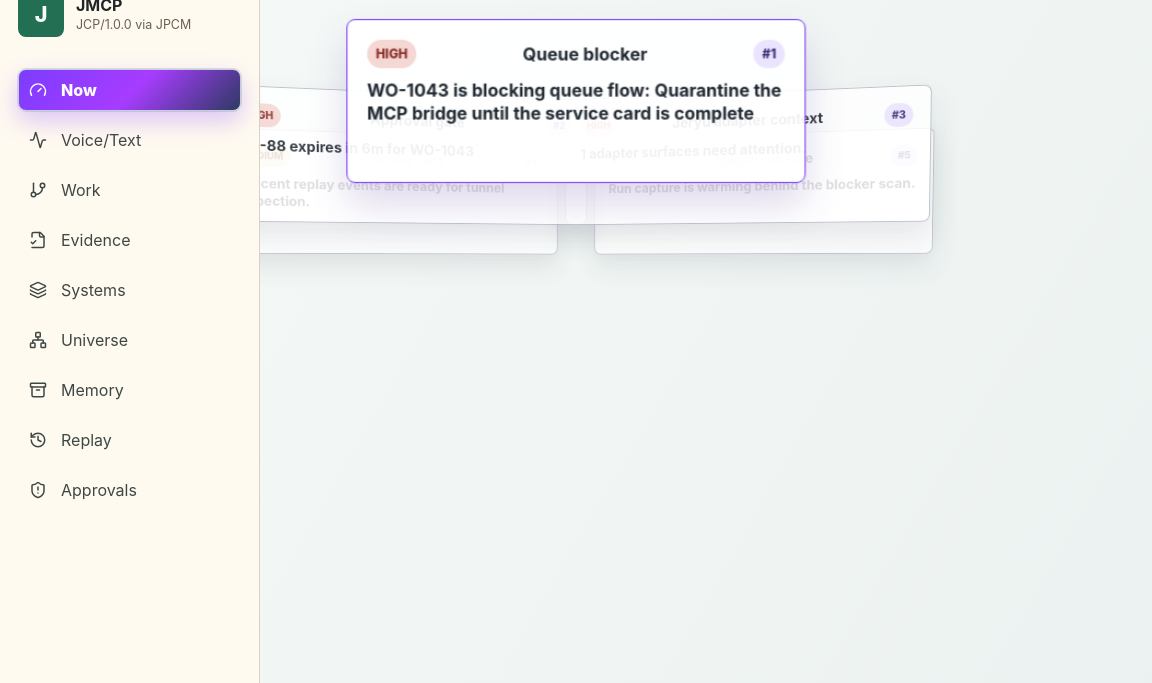
Scenario: JMCP cockpit › opens the voice/text slice with transcript and confirmation details
Click the button "Voice/Text" at (130, 140), box [18, 119, 241, 161]
(page scrolled)
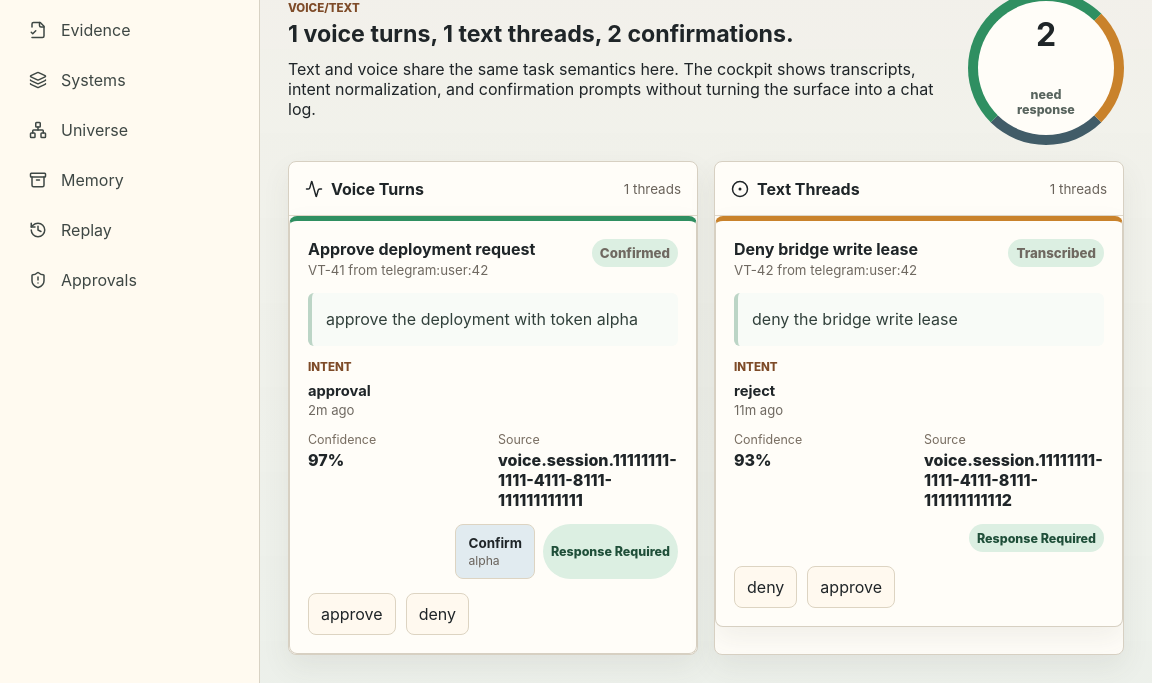
Expected: the text "Approve deployment request" is shown, [308, 239, 535, 259]
Expected: the text "approve the deployment with token alpha" is shown, [308, 293, 678, 346]
Expected: the text "response required" below "97" is shown, [551, 544, 670, 559]
